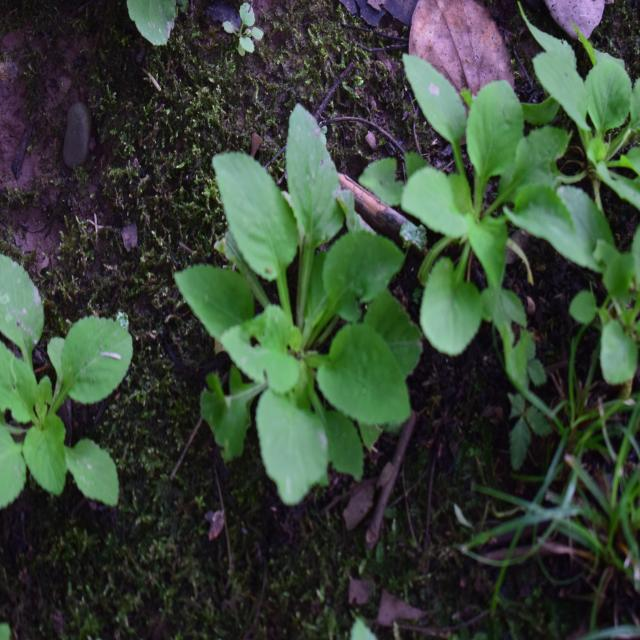Viola: (186, 110, 425, 472), (405, 55, 575, 335)
